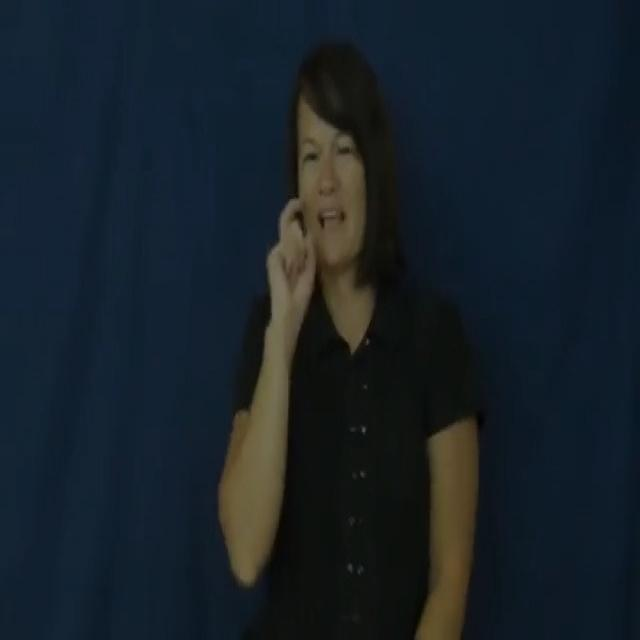hot: (256, 186, 320, 344)
